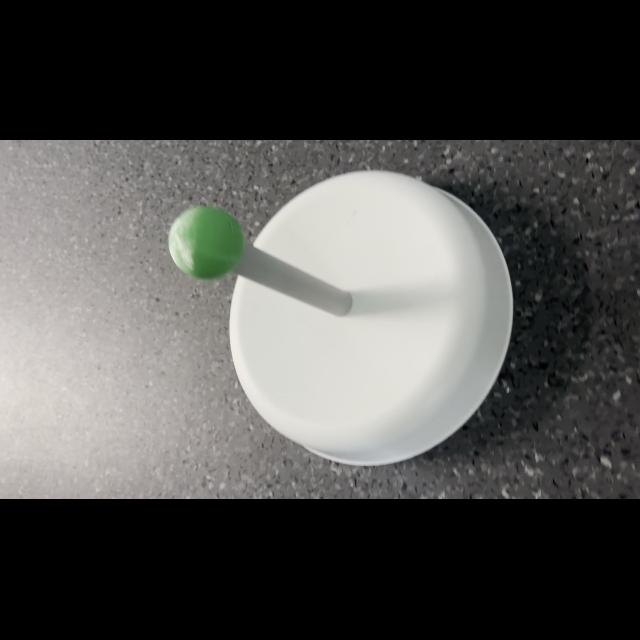objects: (163, 200, 245, 284)
